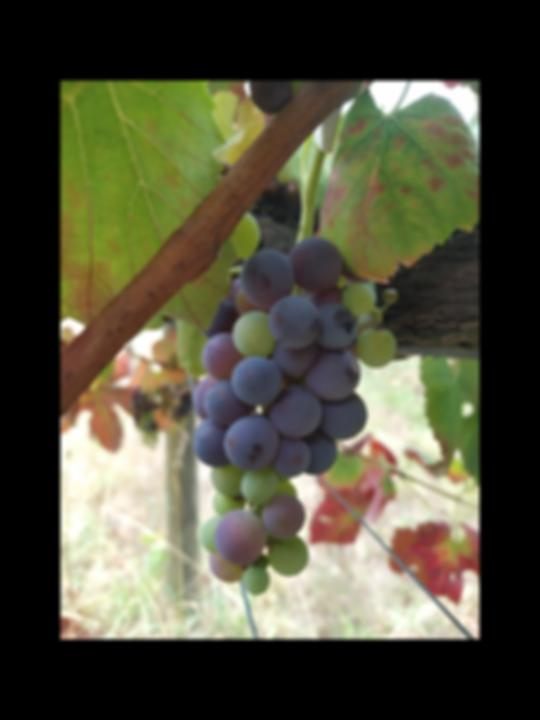grape: (189, 235, 400, 597)
